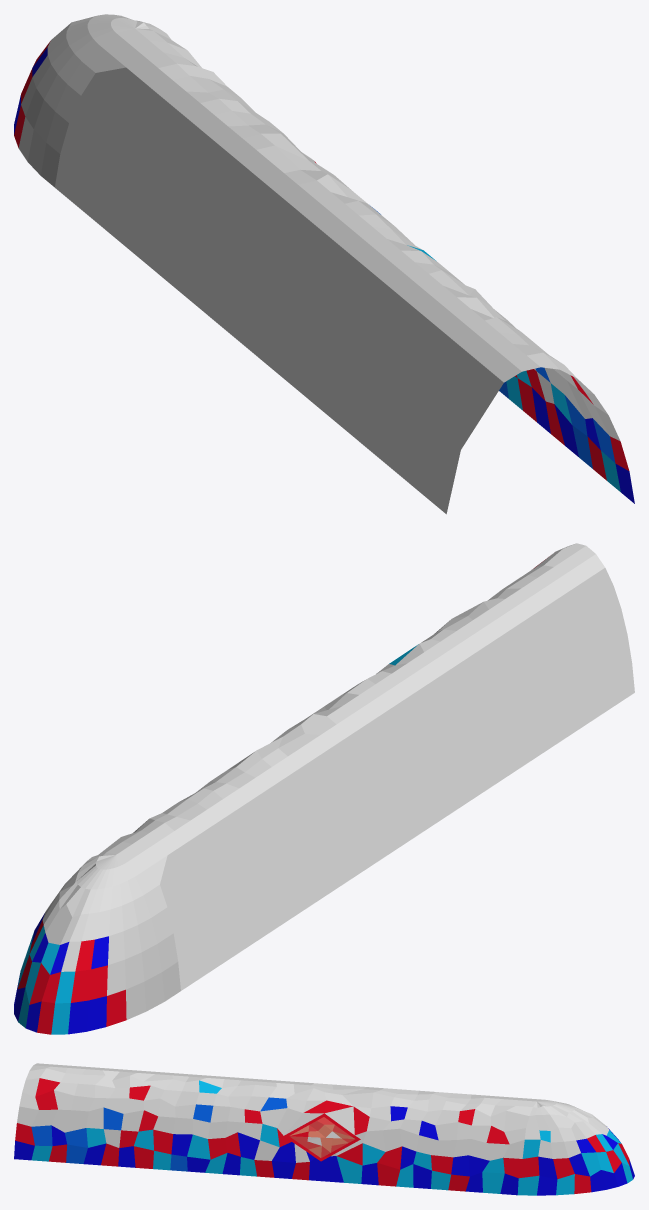
File: ParteAlargadaBajoFinal2.fbx
3 views of the same model, one above another, from view 1: azimuth 30°, elevation 25°; view 2: azimuth 150°, elevation 25°; view 3: azimuth 270°, elevation 25° (orthographic). The views are drawn at different scales.
Visible parts, largest first — view 1: Sphere.001; view 2: Sphere.001; view 3: Sphere.001.
Boxes of the visible parts, x1=… form: Sphere.001: x1=14, y1=14, x2=634, y2=514; Sphere.001: x1=14, y1=543, x2=634, y2=1034; Sphere.001: x1=14, y1=1063, x2=634, y2=1195.
Size of the model in its own units: 136 by 99.74 by 609.
